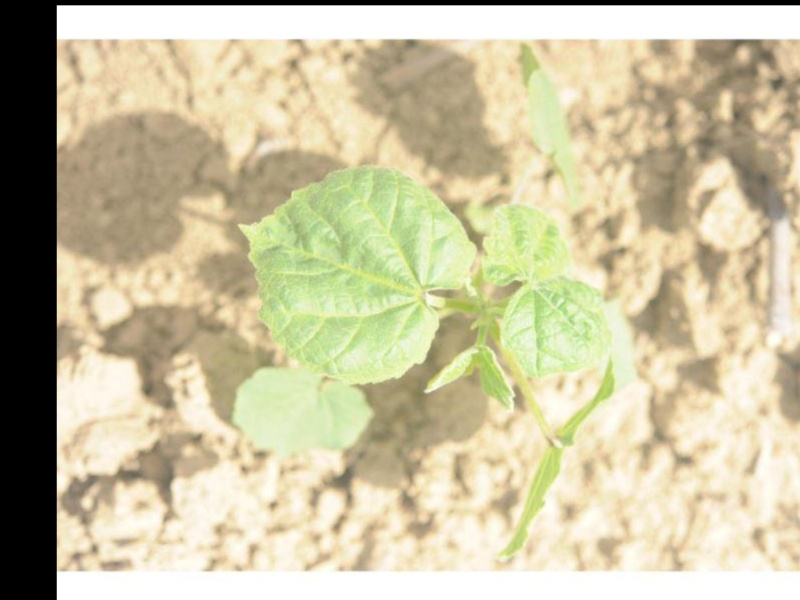velvet: (231, 41, 630, 555)
